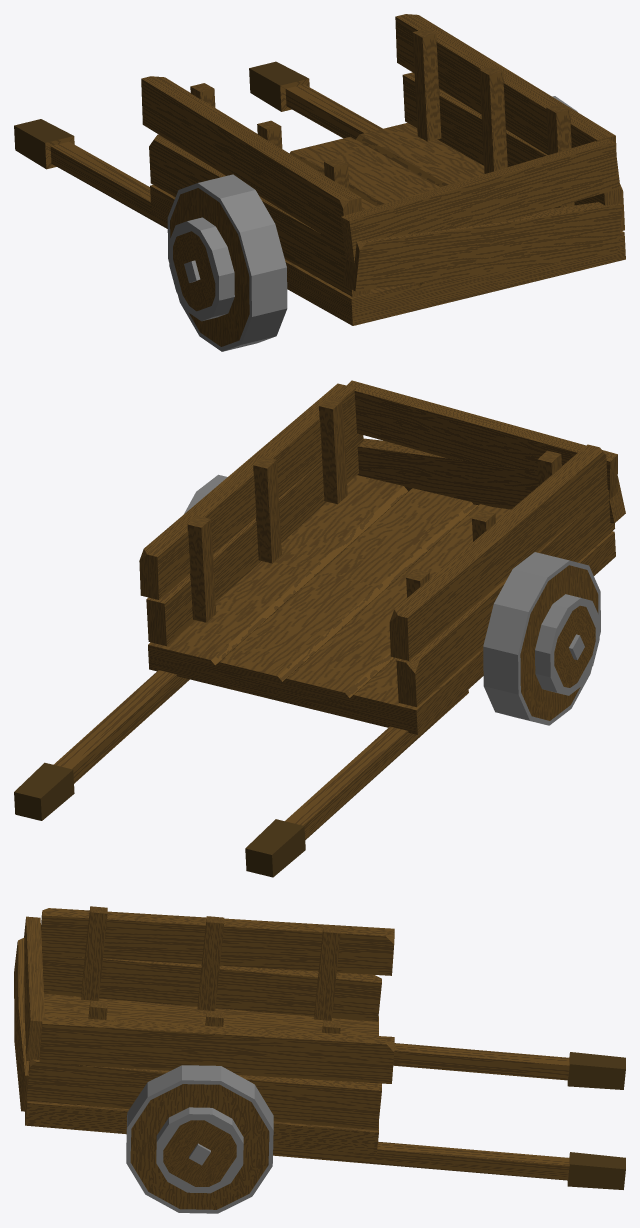
Rendered from tumbril.fbx.
3 renders of one model, top to bottom at view 1: azimuth 30°, elevation 25°; view 2: azimuth 150°, elevation 25°; view 3: azimuth 270°, elevation 25°, orthographic. The views are drawn at different scales.
Visible parts, largest first — view 1: tumbril, wheel; view 2: tumbril, wheel; view 3: tumbril, wheel.
Boxes of the visible parts, x1,y1,x2,y2 form: tumbril: (14, 14, 625, 325); wheel: (167, 96, 577, 351); tumbril: (14, 380, 625, 877); wheel: (184, 474, 600, 725); tumbril: (14, 906, 625, 1189); wheel: (126, 1065, 273, 1213).
Size of the model in its own units: 315 by 158 by 482.
